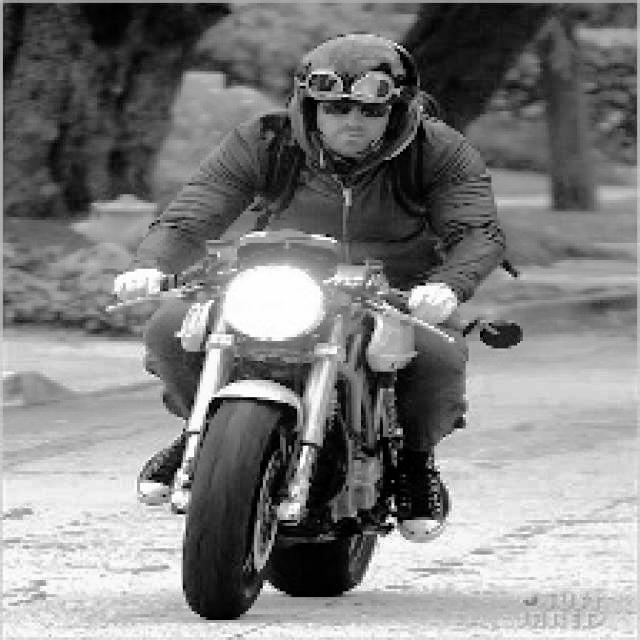Bike: (118, 245, 414, 633)
